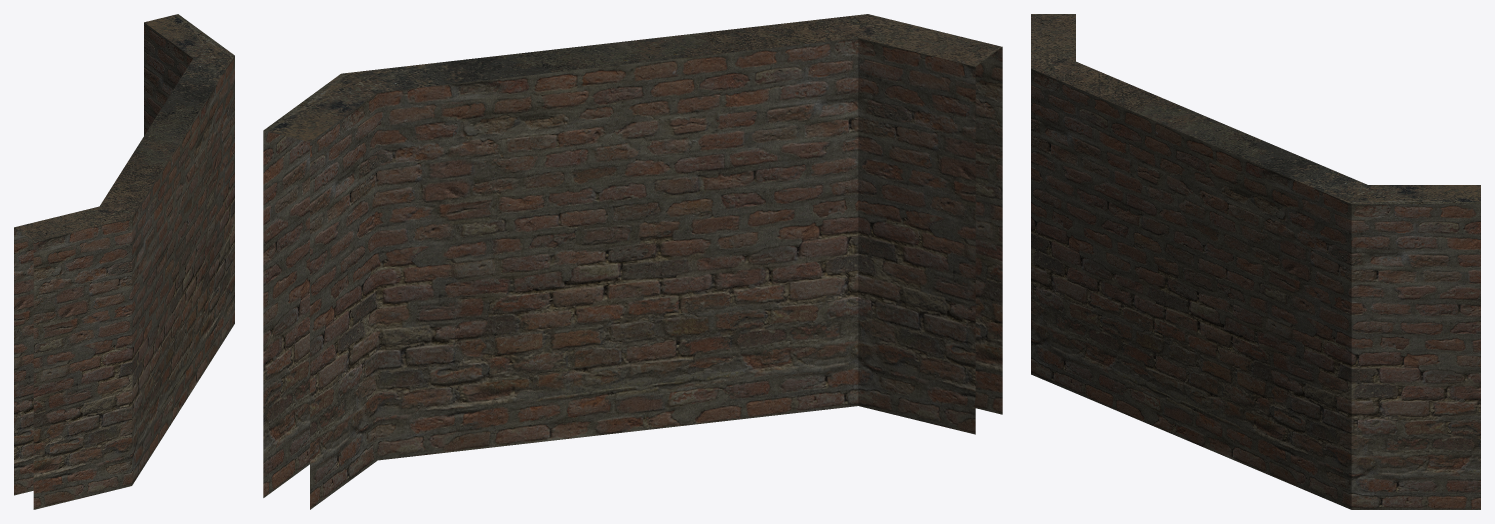
The model's file is wall_hr_1_m1a_2.obj.
3 views of the same model, side by side, from view 1: azimuth 30°, elevation 25°; view 2: azimuth 150°, elevation 25°; view 3: azimuth 270°, elevation 25° (orthographic). The views are drawn at different scales.
Visible parts, largest first — view 1: wall_hr_1_m1a_2; view 2: wall_hr_1_m1a_2; view 3: wall_hr_1_m1a_2.
Boxes of the visible parts, <box> form: wall_hr_1_m1a_2: <box>14,14,234,509</box>; wall_hr_1_m1a_2: <box>263,14,1002,509</box>; wall_hr_1_m1a_2: <box>1031,14,1480,509</box>.
Bounding box in the file's own units: 4 × 3 × 4.
